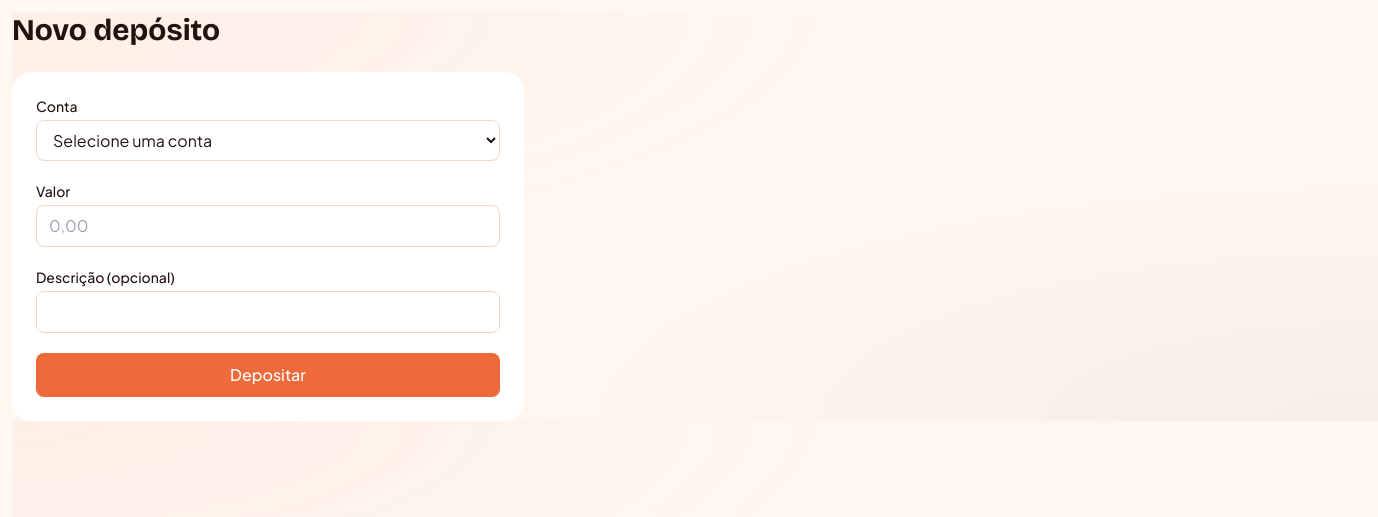
DepositoForm › mostra erro retornado pela API
Select "Agência 0001 · Conta 0042-0" in the dropdown labelled "Conta" at (268, 140), box [36,120,500,161]
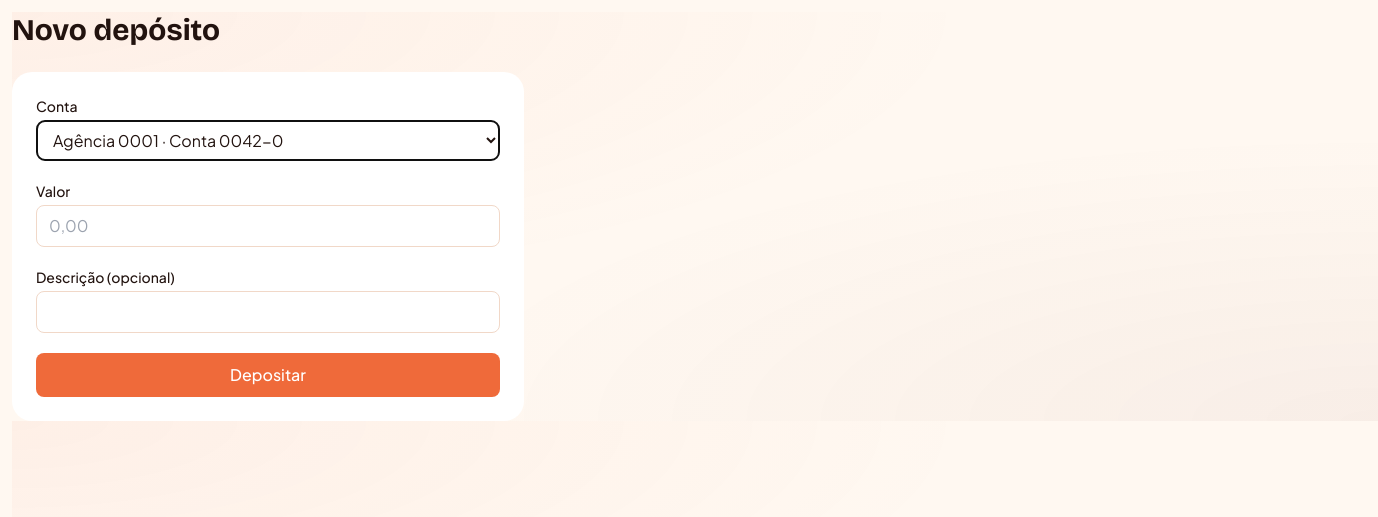
Type "50" into the field labelled "Valor".
click(268, 226); type("50")  # box [36,205,500,247]
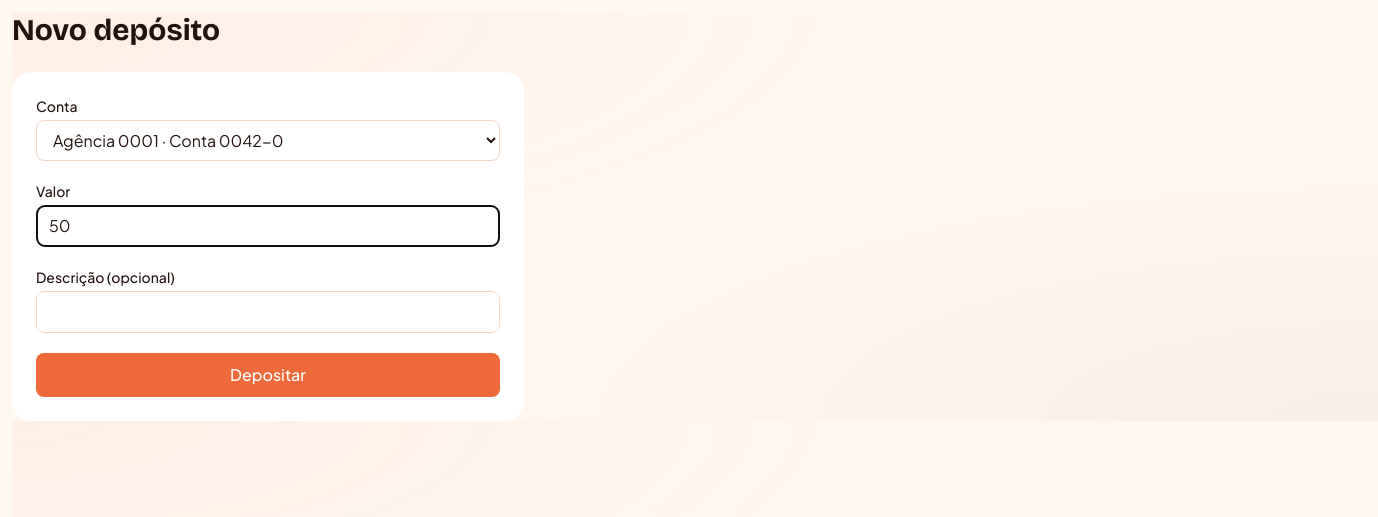
Click the button "Depositar".
click(268, 375)  # box [36,353,500,397]
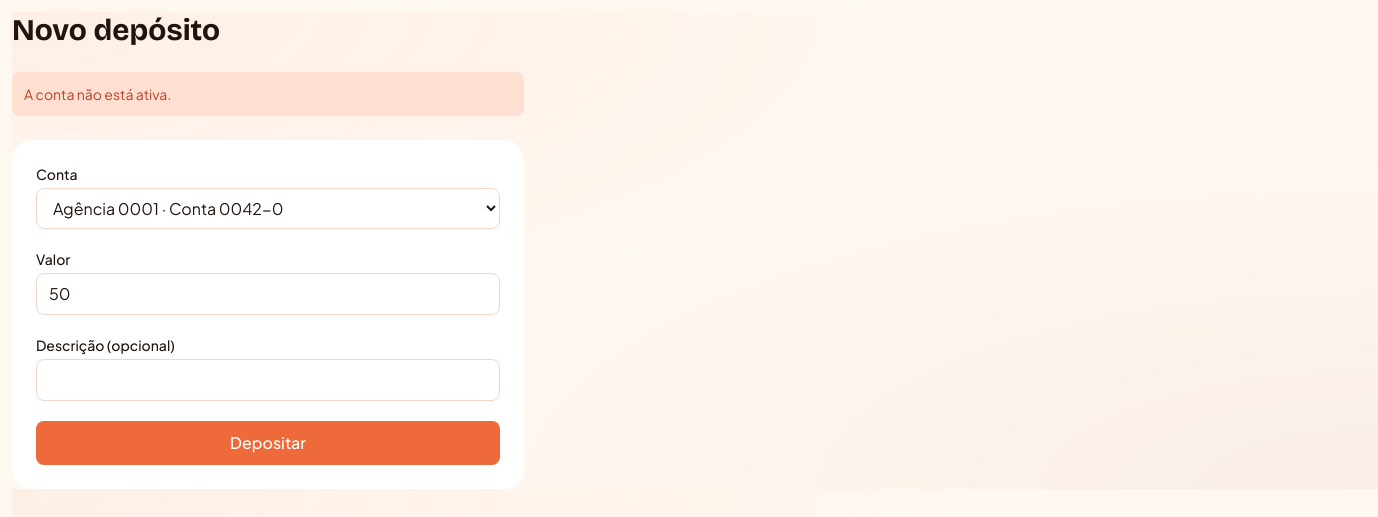
Result: the text "A conta não está ativa." is shown at [12,72,524,116]
